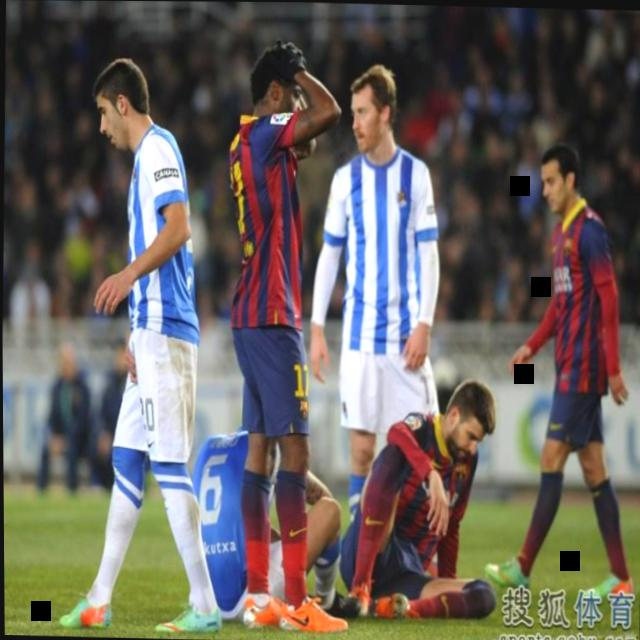Fall-Detected: (145, 421, 365, 625)
